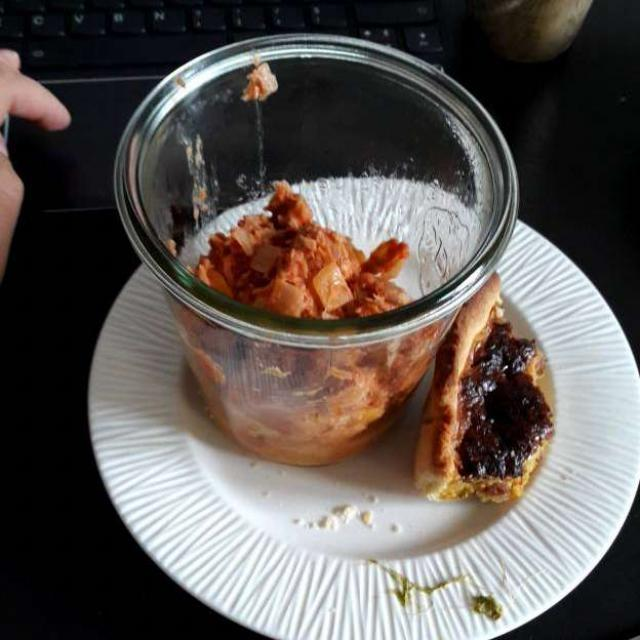ratatouille: (174, 200, 416, 458)
